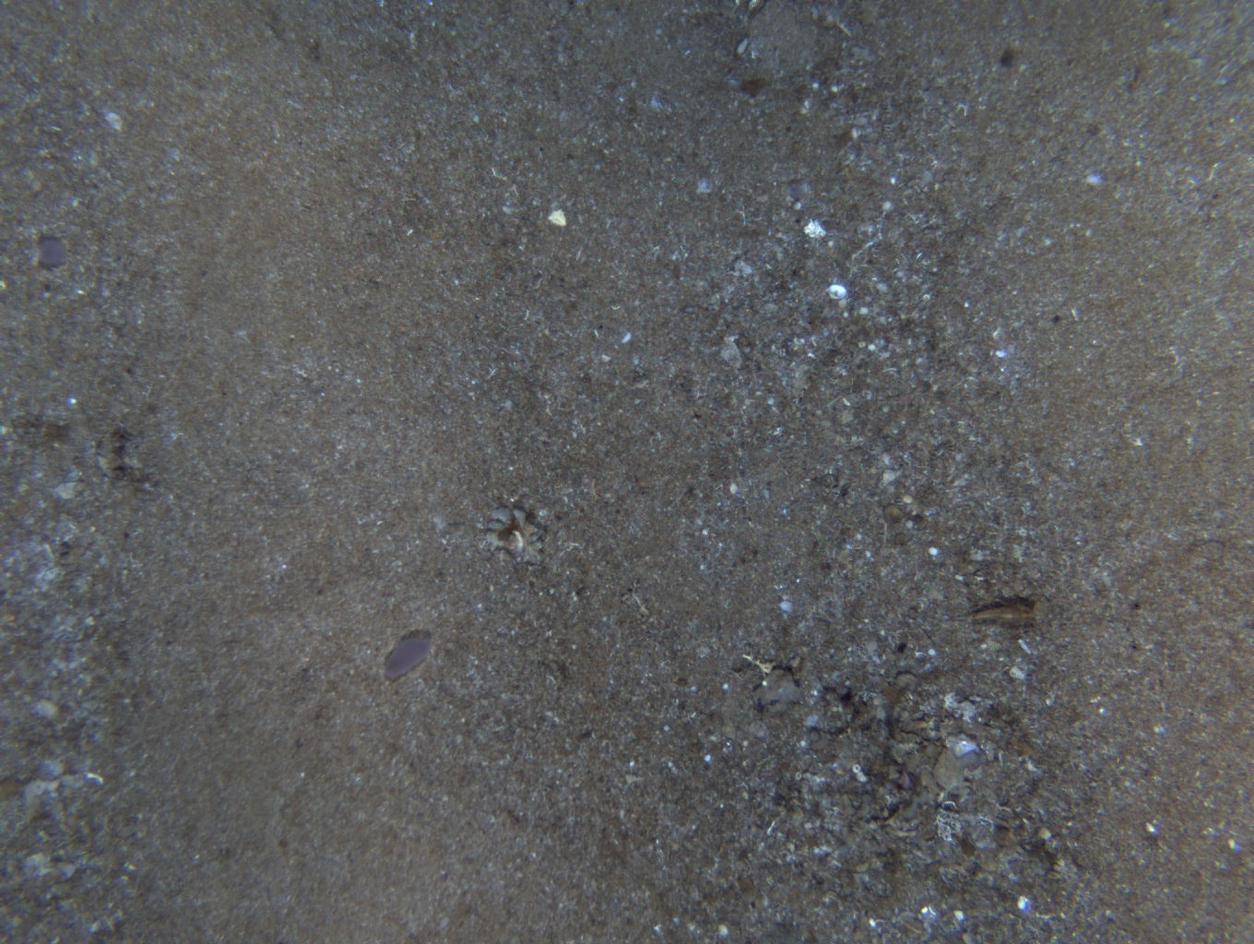Brachionichthyidae: (953, 597, 1040, 631)
